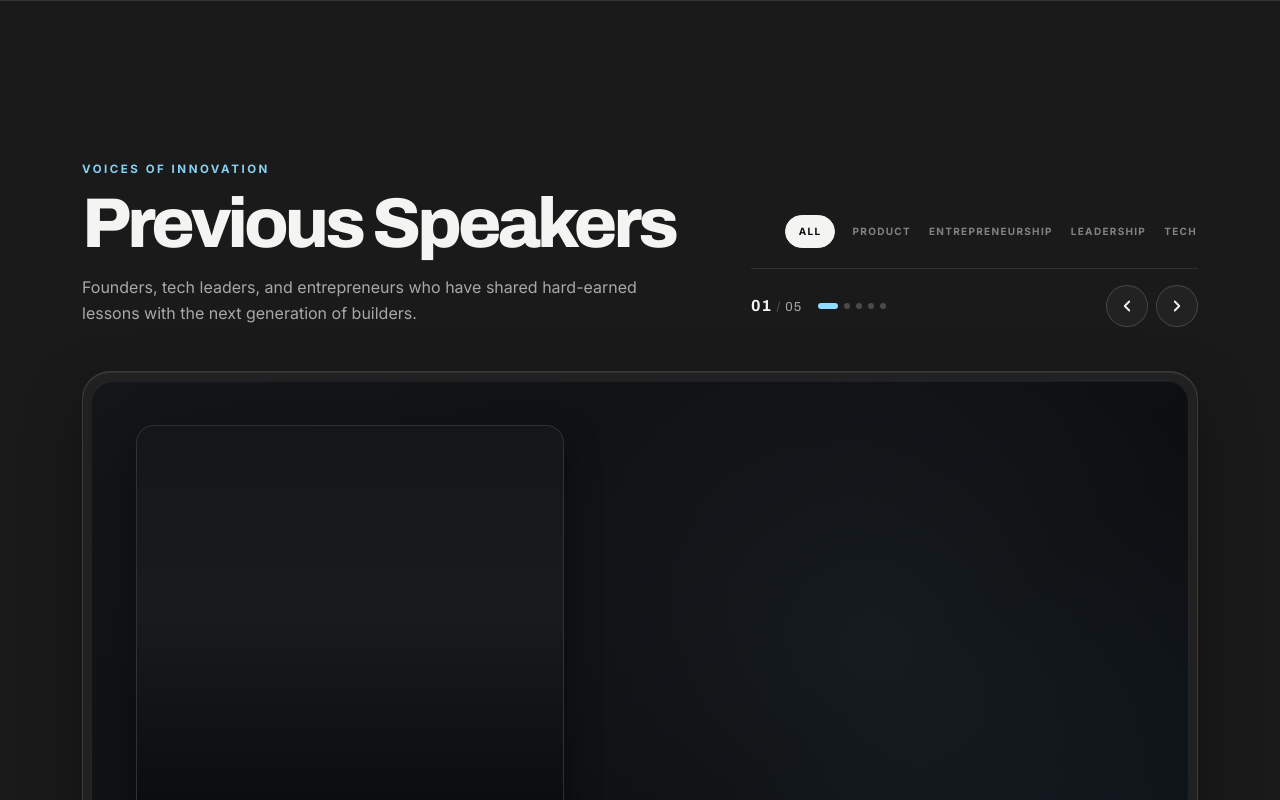
Test: Speakers Section › filters speakers by category pill
What coordinates should you click on to do the following:
click the tab with aria-label "Technology"
I would click on:
 (1181, 231)
Its box is [1163, 215, 1198, 248].
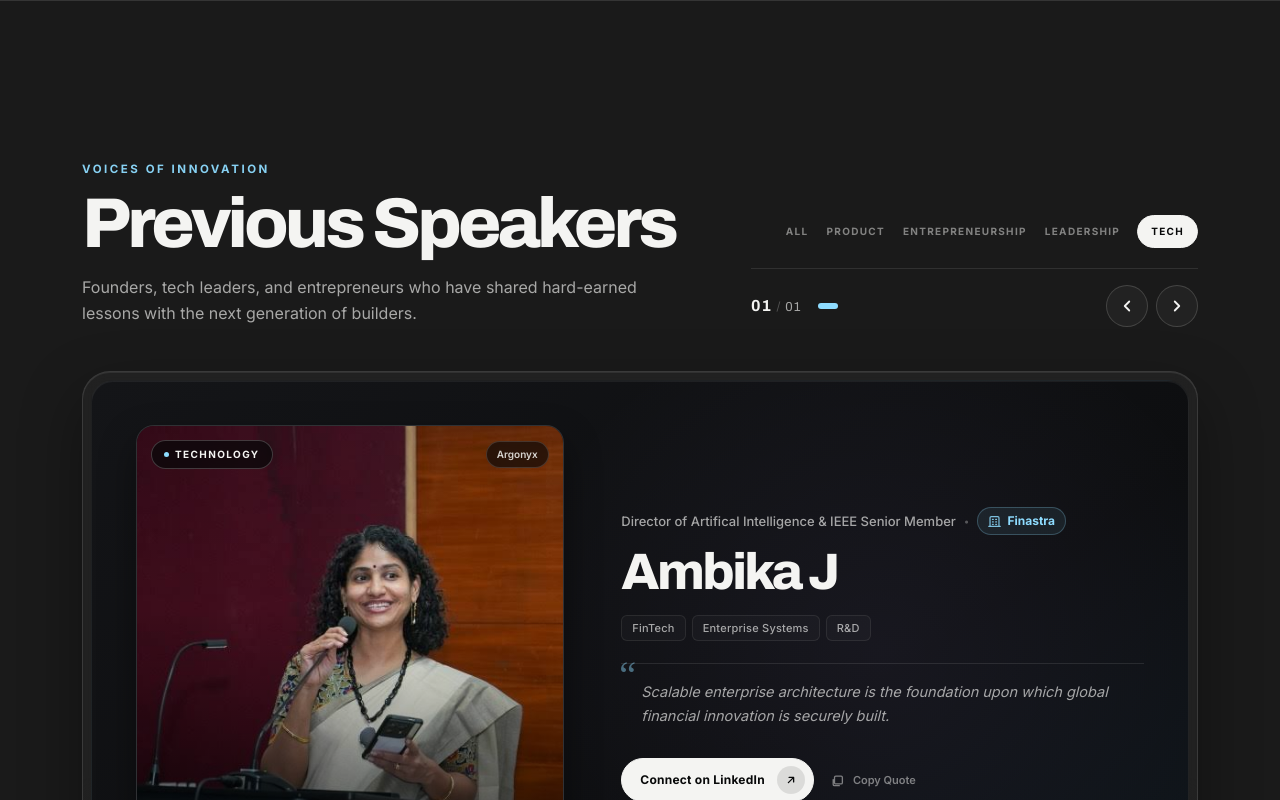
Check: the heading "Ambika J" is shown, box [621, 547, 838, 598]
Check: the text "Finastra" is shown, box [1008, 512, 1055, 530]
